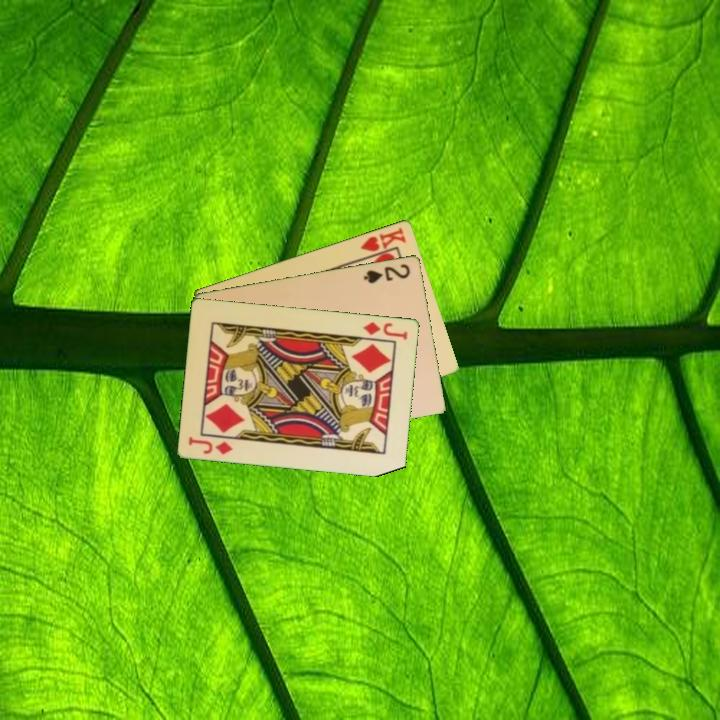2s: (360, 260, 413, 286)
Jd: (360, 318, 411, 342), (185, 433, 236, 457)
Kh: (357, 224, 409, 261)
